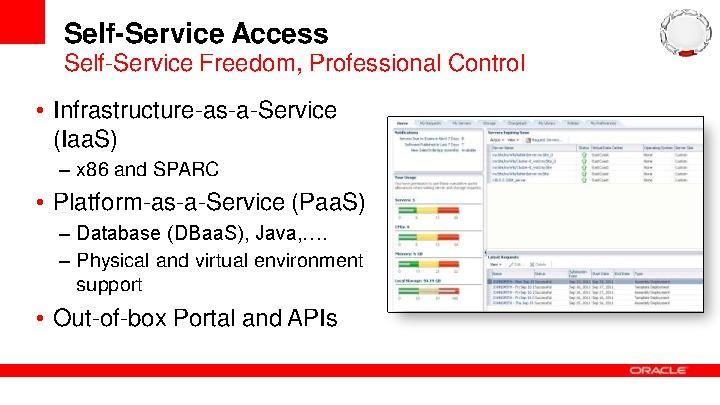paragraph: (26, 91, 378, 351)
subtitle: (625, 361, 693, 380)
title: (63, 15, 543, 89)
